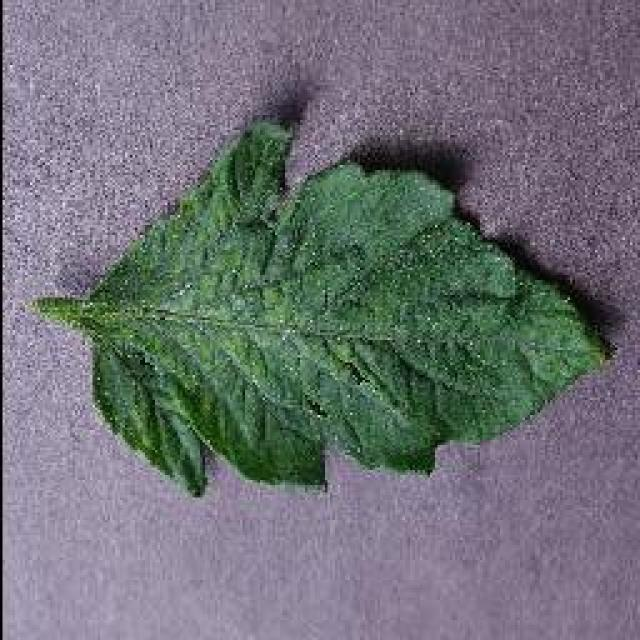Tomato___Tomato_mosaic_virus: (38, 120, 598, 492)
